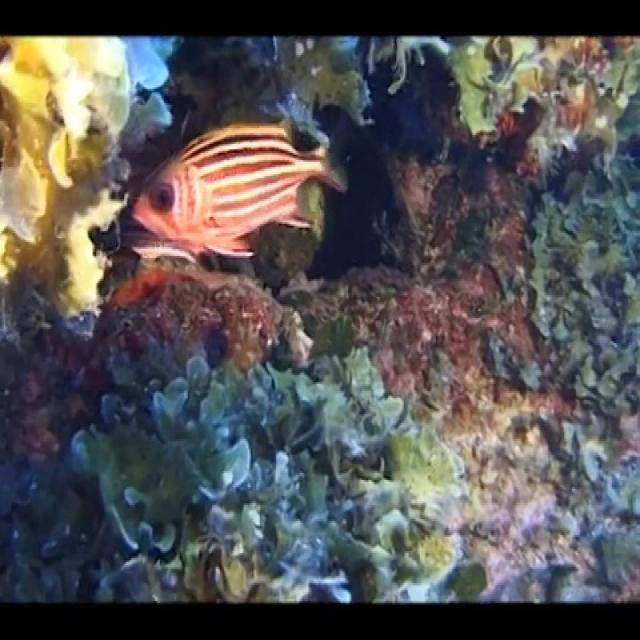Asker Baligi: (125, 116, 348, 266)
